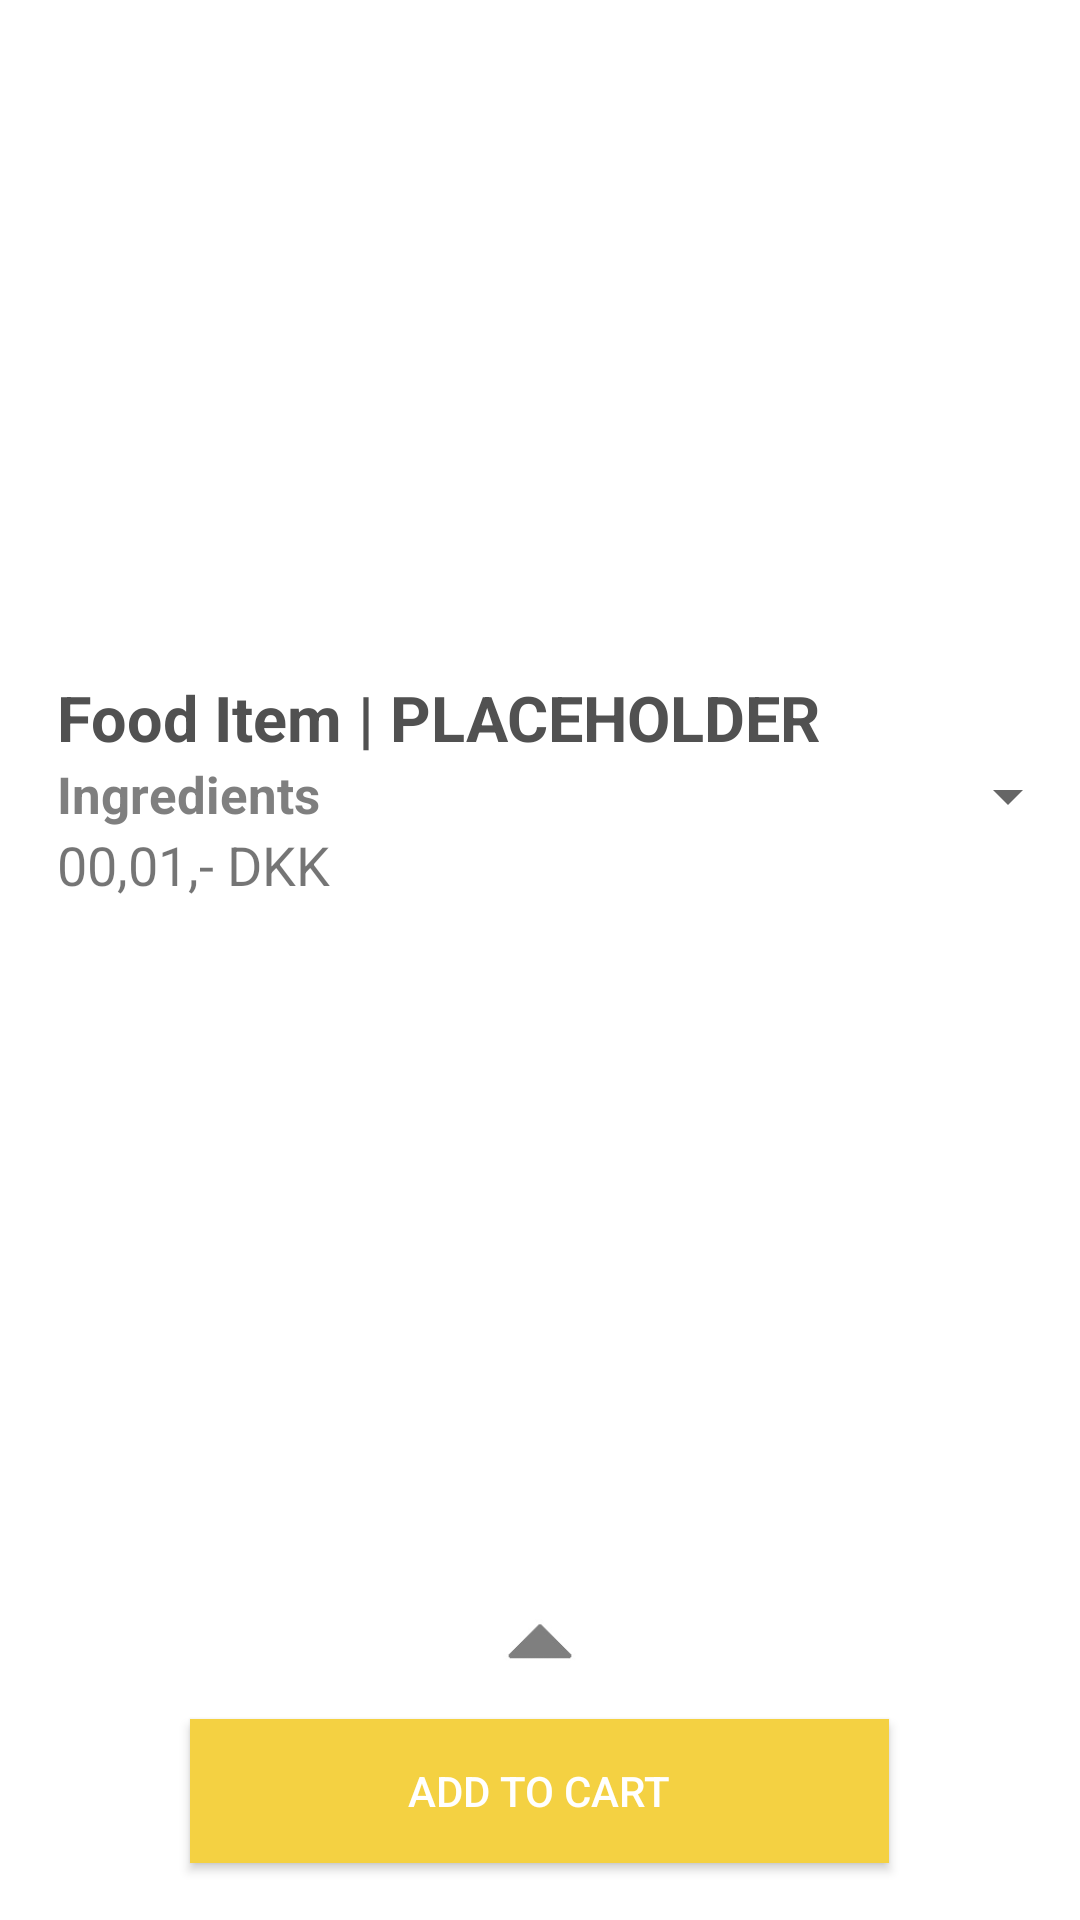

Locate icon controls on the screen. Image size 1080x1920, boxes as (x1, y1, x2, y2).
up arrow: (508, 1624, 572, 1659)
